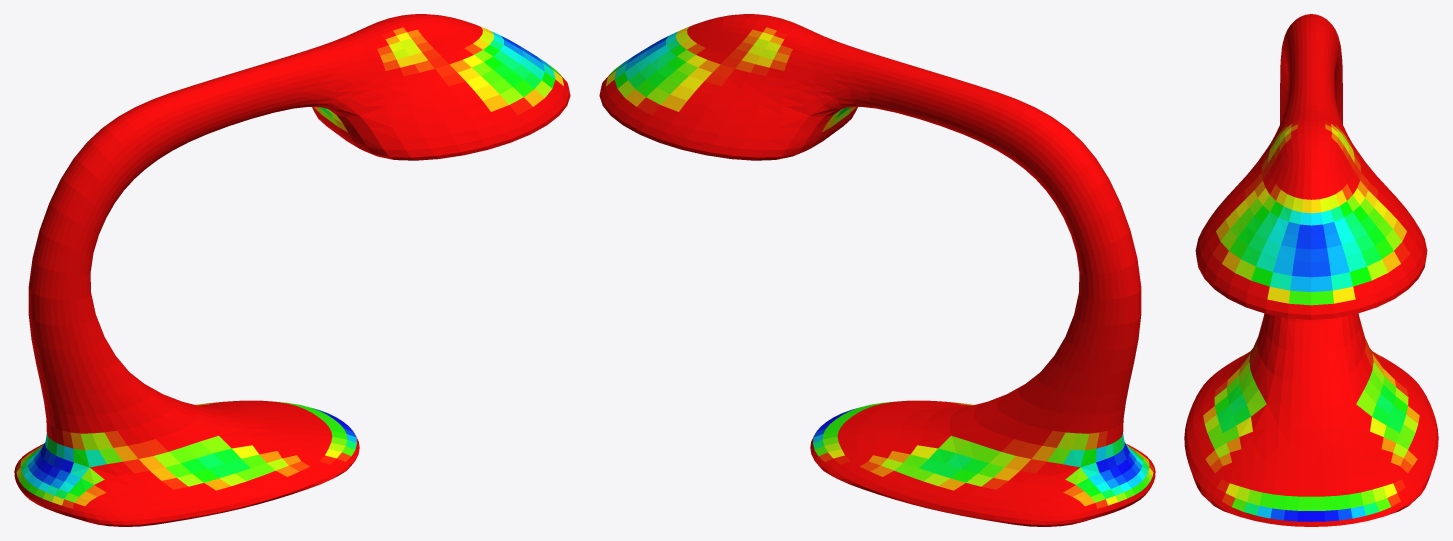
File: lamp_no_opt_quality.obj
The picture shows the model from 3 angles, left to right: view 1: azimuth 30°, elevation 25°; view 2: azimuth 150°, elevation 25°; view 3: azimuth 270°, elevation 25°; orthographic projection. The views are drawn at different scales.
Size of the model in its own units: 5.75 by 4.08 by 2.17.
